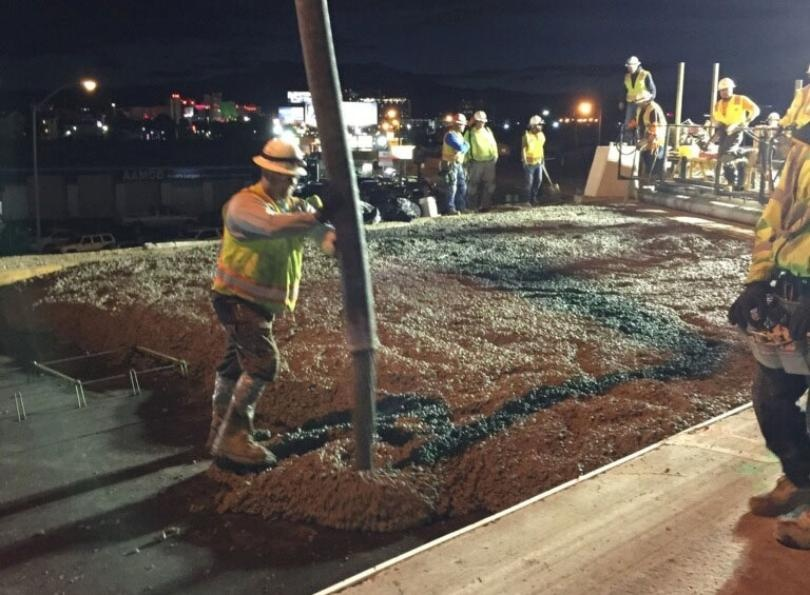white: (255, 139, 302, 198), (716, 77, 736, 98), (451, 112, 467, 133), (624, 54, 641, 73), (635, 89, 651, 107), (528, 114, 544, 131), (473, 109, 487, 128)
